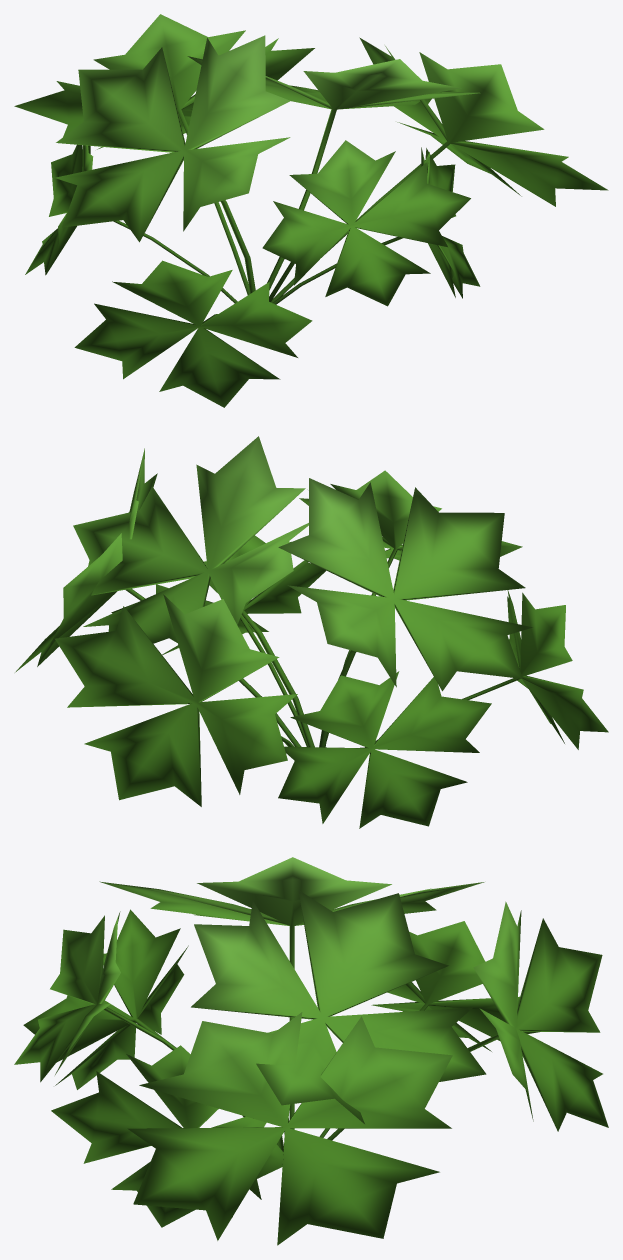
3 renders of one model, top to bottom at view 1: azimuth 30°, elevation 25°; view 2: azimuth 150°, elevation 25°; view 3: azimuth 270°, elevation 25°, orthographic. The views are drawn at different scales.
Visible parts, largest first — view 1: fp06; view 2: fp06; view 3: fp06.
Boxes of the visible parts, x1=… form: fp06: x1=14, y1=14, x2=608, y2=407; fp06: x1=15, y1=436, x2=608, y2=828; fp06: x1=14, y1=857, x2=608, y2=1245.
Size of the model in its own units: 96.75 by 51.34 by 85.3.
